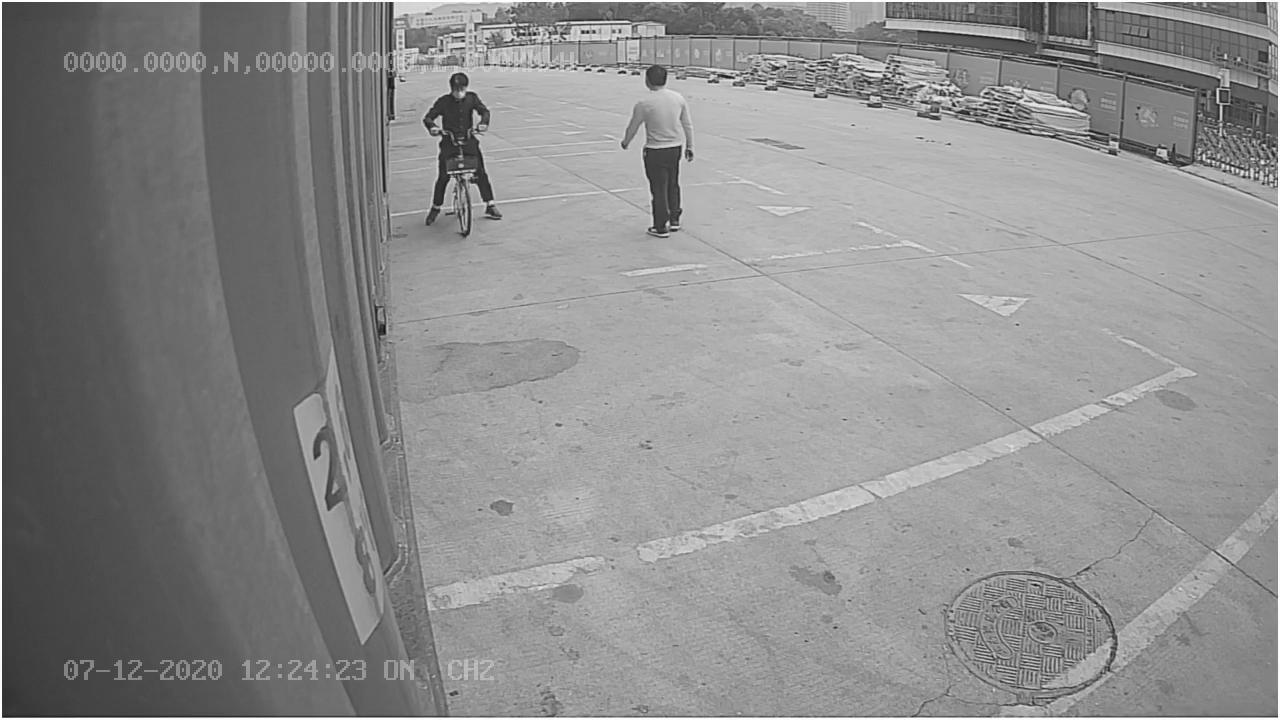person: (616, 60, 698, 239)
